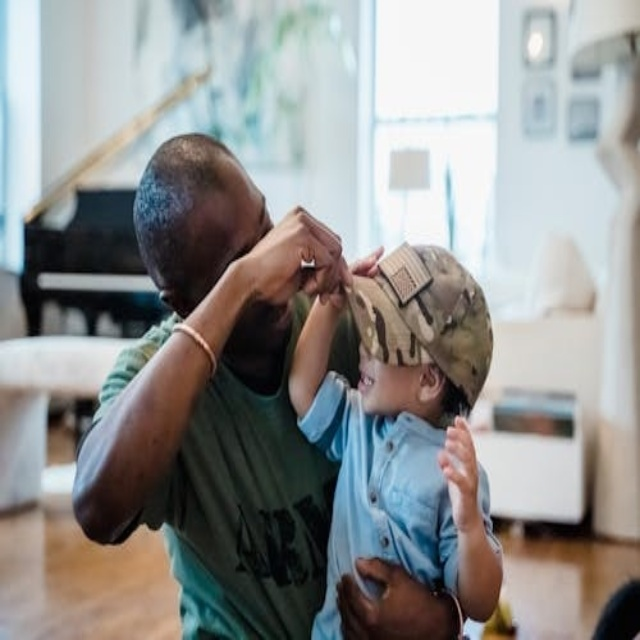Sin_guantes: (244, 192, 355, 315), (336, 556, 460, 640), (434, 407, 485, 536)
Sin_mascara: (355, 359, 394, 411)
